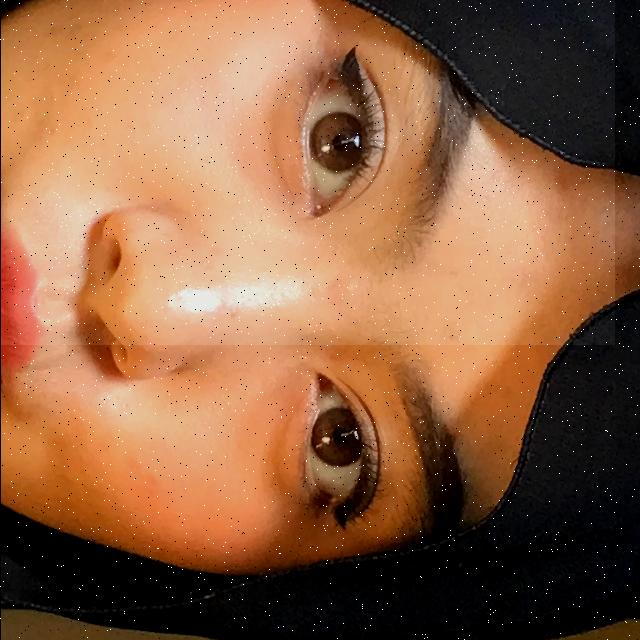sedih: (0, 0, 614, 345)
